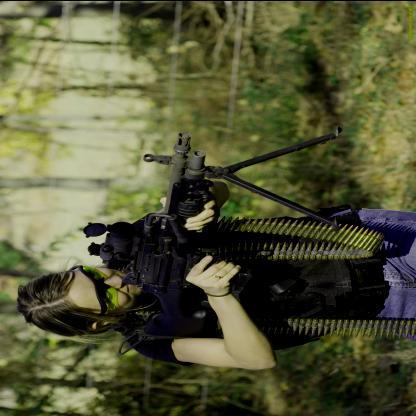rifle: (87, 133, 257, 341)
